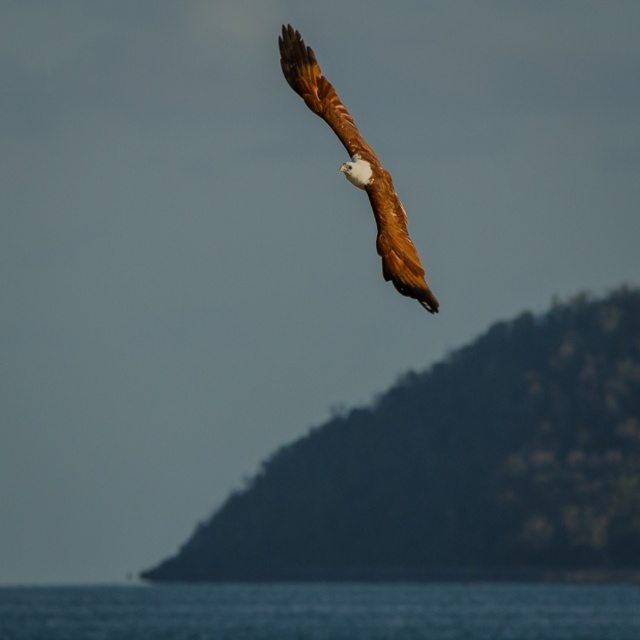Eagle: (280, 23, 438, 313)
